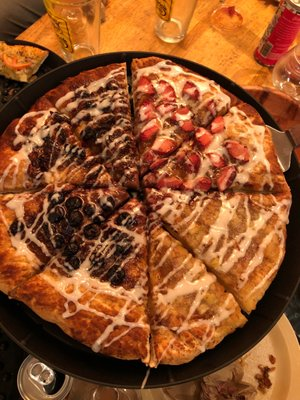pizza: (43, 0, 103, 62), (153, 0, 198, 45)
